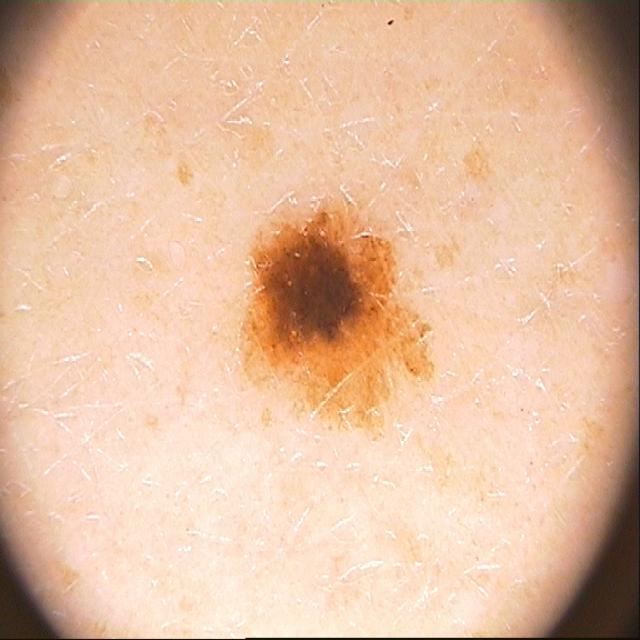Skin-Cancer Nevus: (66, 1, 603, 551)
